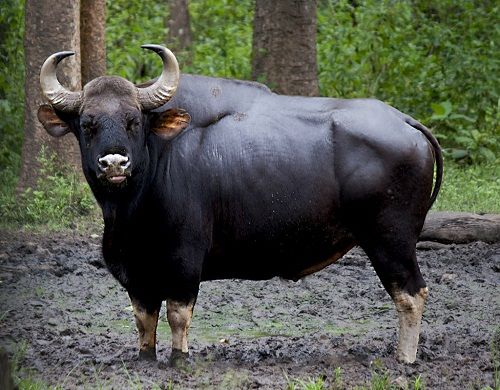bison: (33, 37, 444, 367)
